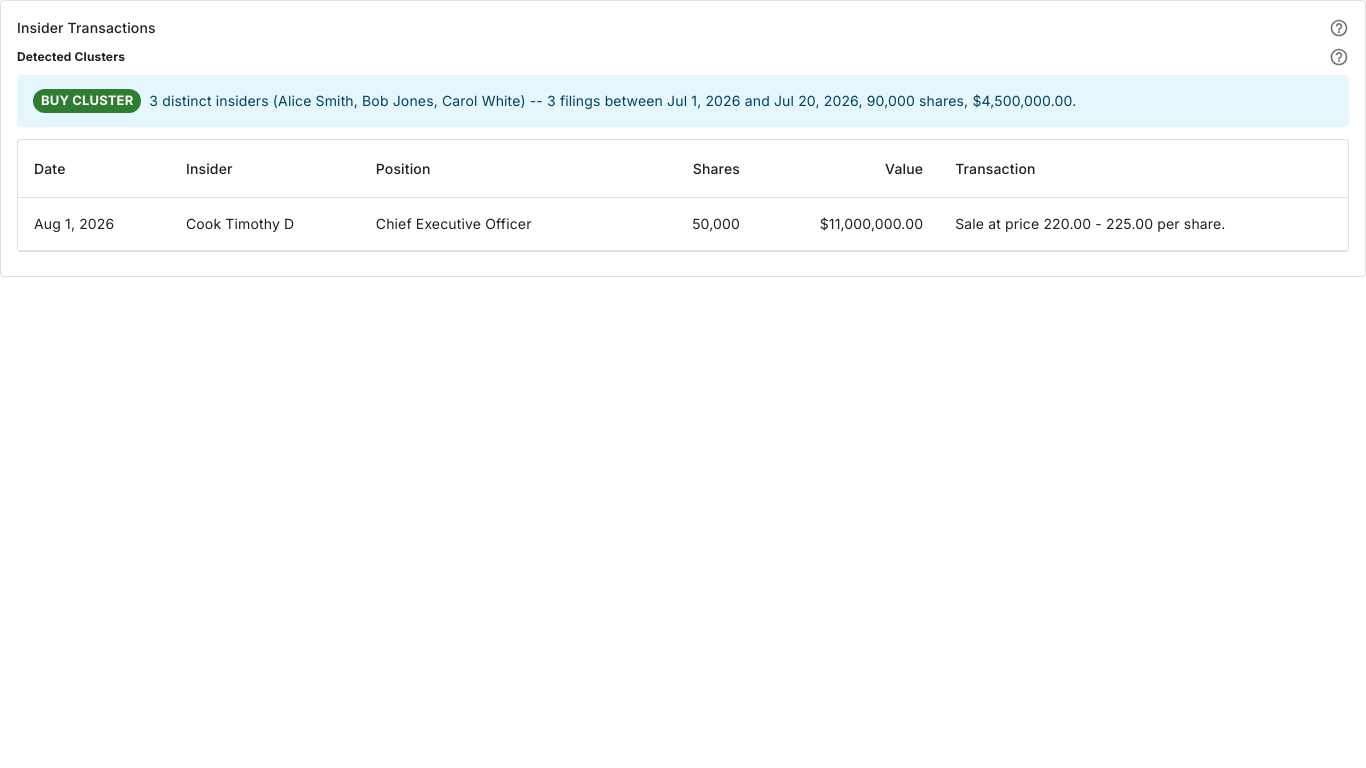
it: InsiderTransactionsPanel › renders a buy-cluster callout, distinct from the underlying signal palette
The image size is (1366, 768).
Expected: the text "BUY CLUSTER" is shown, [33,91,141,111]
Expected: the message with test id "insider-cluster-callout" shows "3 distinct insiders (Alice Smith, Bob Jones, Carol White) -- 3 filings between Jul 1, 2026 and Jul 20, 2026, 90,000 shares, $4,500,000.00.", [17,75,1349,127]
Click the button named "Insider-Transaction Clusters help" at {"x": 1339, "y": 57}, box [1329,47,1349,67]
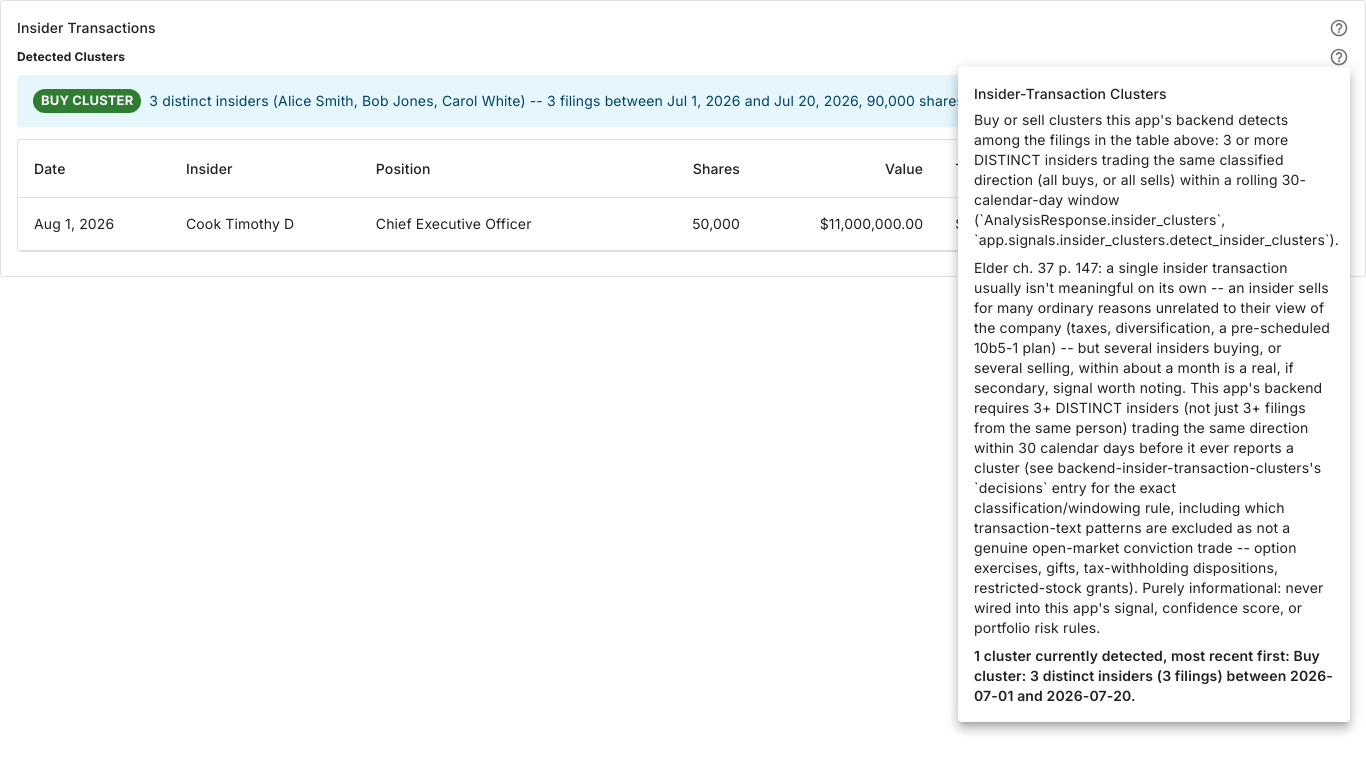
Expected: the text "Buy cluster: 3 distinct insiders" is shown, [974,647,1333,704]
